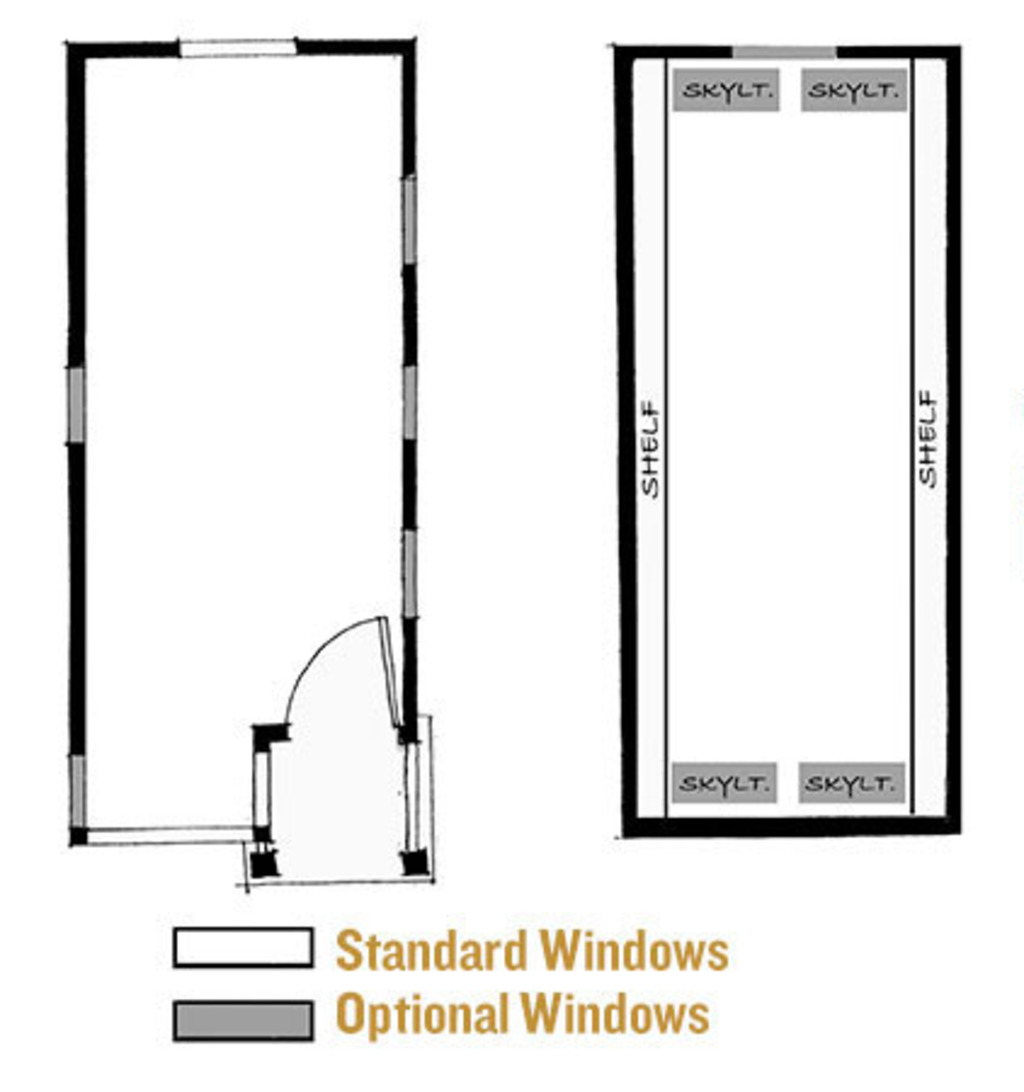door: (286, 582, 412, 742)
window: (64, 740, 110, 876), (386, 176, 437, 271), (173, 30, 300, 67), (392, 521, 429, 633), (395, 360, 437, 445), (730, 35, 840, 62), (64, 365, 90, 443)
